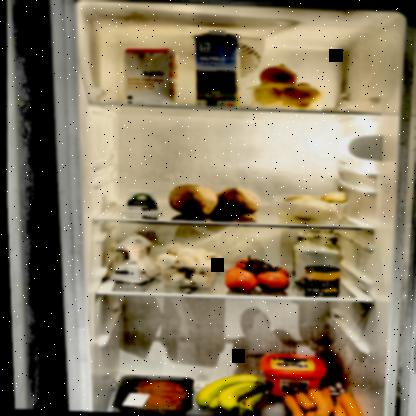banana: (191, 371, 274, 415)
beef: (107, 374, 194, 414)
butter: (254, 352, 326, 400)
carrot: (274, 382, 371, 415)
corn: (301, 264, 339, 296)
milk: (190, 28, 245, 110)
mushrooms: (155, 240, 222, 285)
onion: (245, 63, 330, 112)
potato: (277, 188, 352, 224)
sweet_potato: (164, 181, 264, 219)
tomato: (220, 256, 292, 294)
